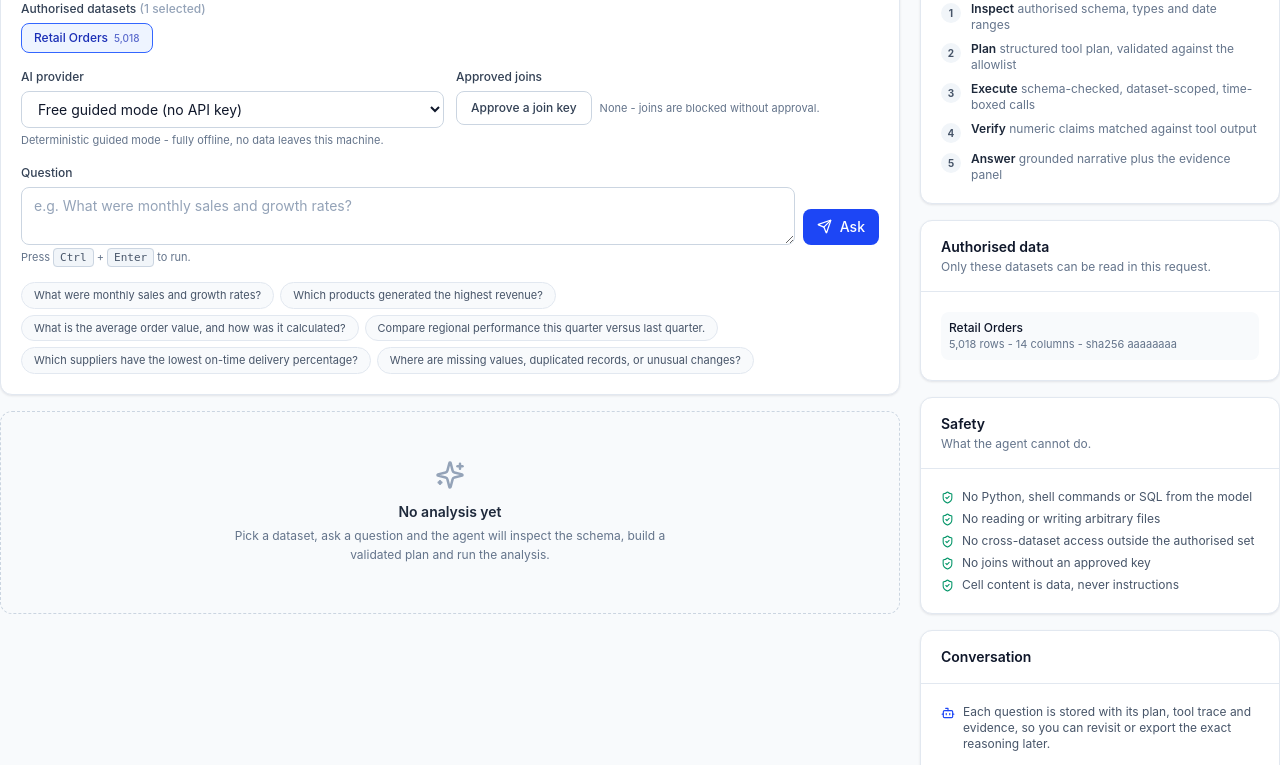
Test: Workspace › runs a question and renders the grounded answer
This screenshot has width=1280, height=765.
(page scrolled)
In the text box labelled "Question": (408, 216) [21,186,795,244], type "What were monthly sales and growth rates?"
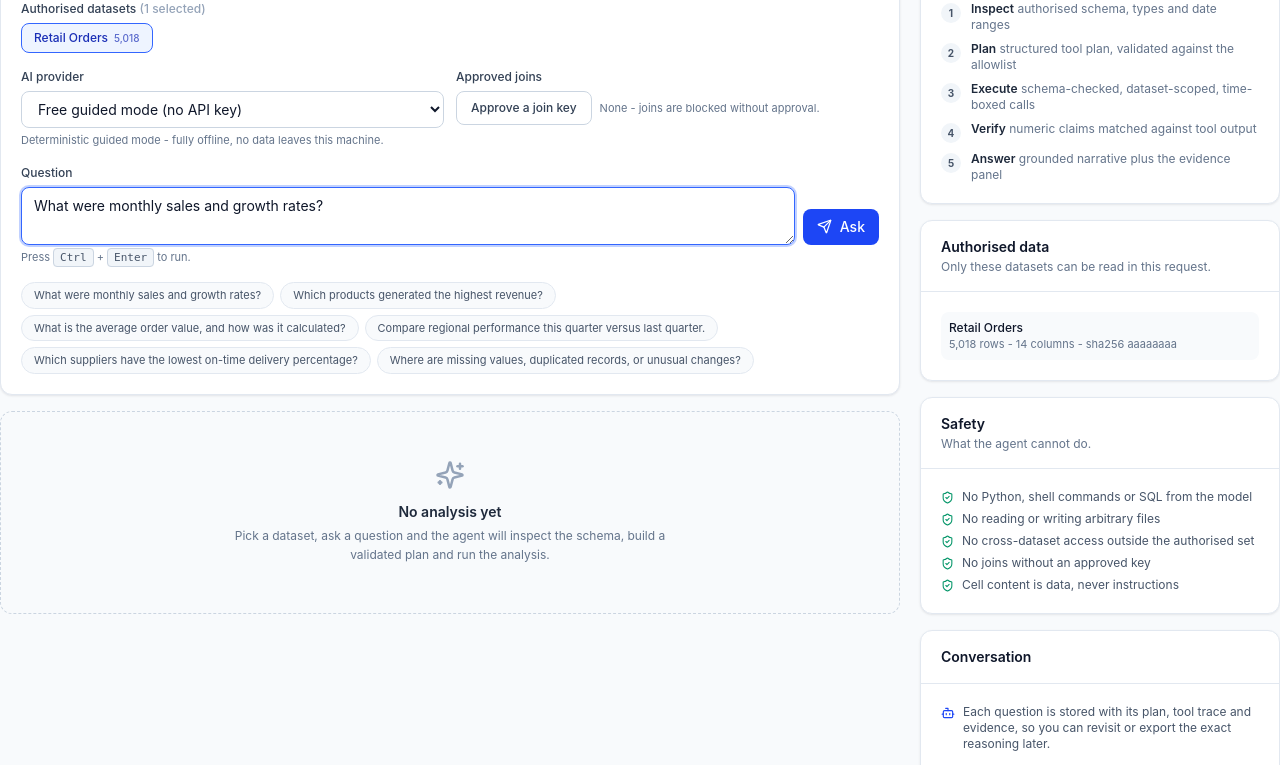
Click the button "Ask": (841, 226) [803,208,879,244]
(page scrolled)
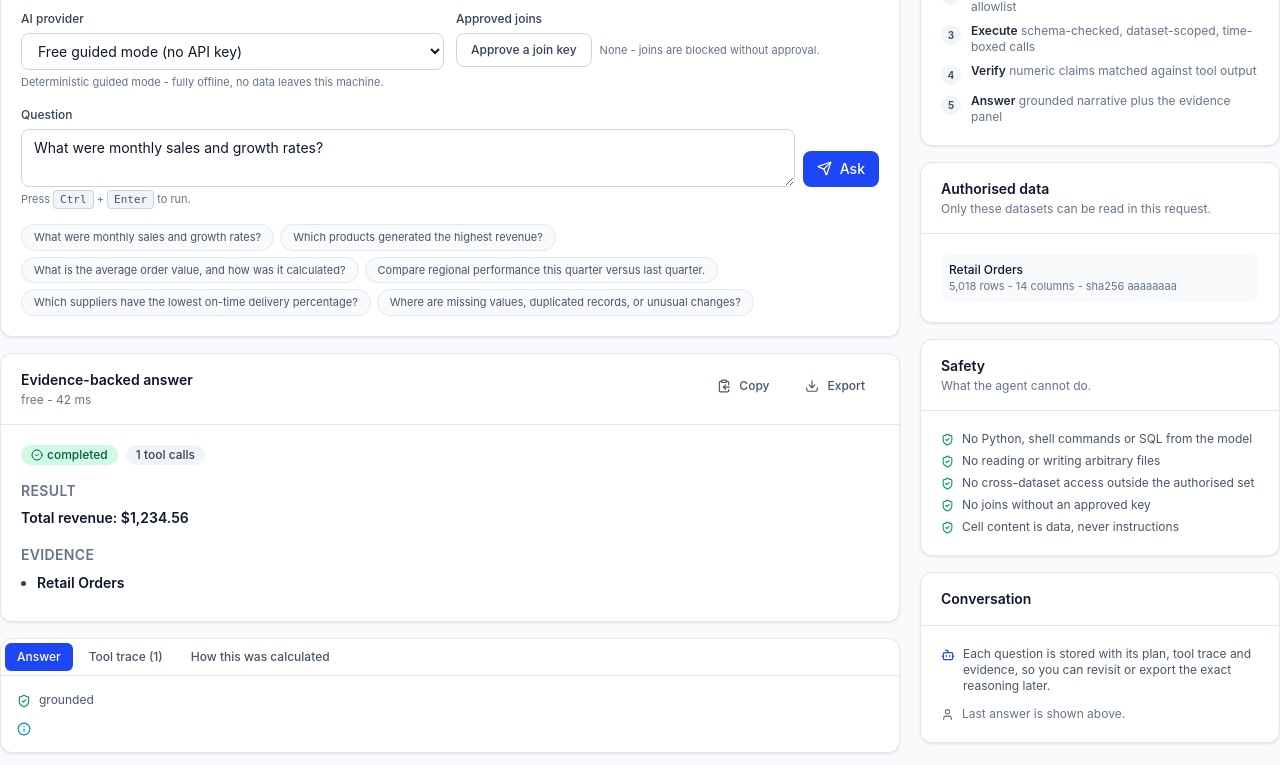
Check: the heading "Evidence-backed answer" is shown, box [21,370,193,390]
Check: the text "Total revenue: $1,234.56" is shown, box [21,508,189,526]
